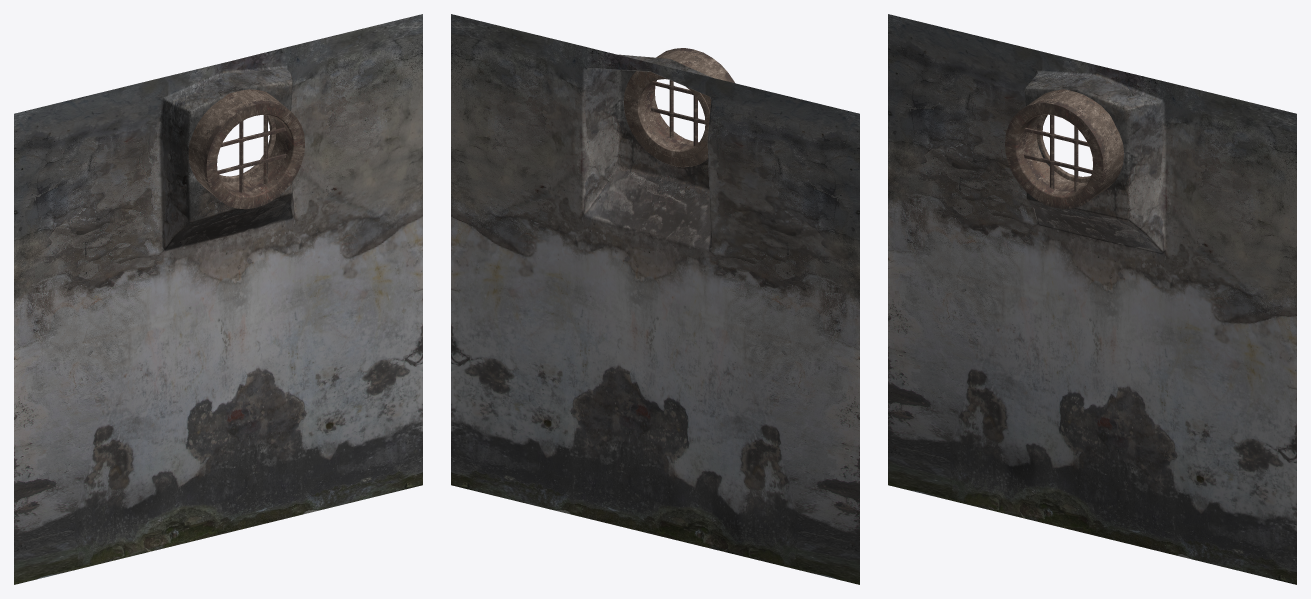
Rendered from SM_CryptWall_01_03.fbx.
3 views of the same model, side by side, from view 1: azimuth 30°, elevation 25°; view 2: azimuth 150°, elevation 25°; view 3: azimuth 330°, elevation 25° (orthographic).
Parts seen in each view (by area): view 1: sm_CryptWall_01_03_LOD0; view 2: sm_CryptWall_01_03_LOD0; view 3: sm_CryptWall_01_03_LOD0.
Part boxes in pixels (box(x1,y1,x2,y2)): sm_CryptWall_01_03_LOD0: box(14, 14, 422, 584); sm_CryptWall_01_03_LOD0: box(451, 14, 859, 584); sm_CryptWall_01_03_LOD0: box(888, 14, 1296, 584).
Bounding box in the file's own units: 44.25 × 250 × 275.
